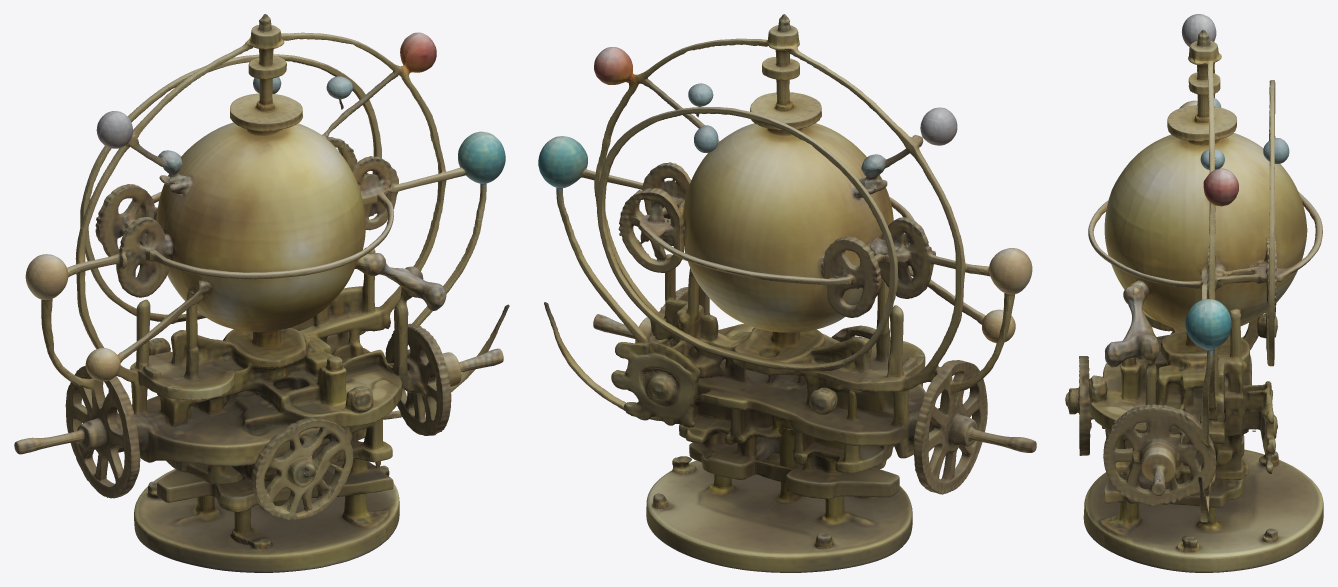
3 renders of one model, left to right at view 1: azimuth 30°, elevation 25°; view 2: azimuth 150°, elevation 25°; view 3: azimuth 270°, elevation 25°, orthographic. The views are drawn at different scales.
Visible parts, largest first — view 1: world; view 2: world; view 3: world.
Part boxes in pixels (x1,y1,x2,y2): world: (14,14,509,572); world: (538,14,1036,572); world: (1065,14,1323,572).
Size of the model in its own units: 0.9887 by 0.9754 by 0.4685.
